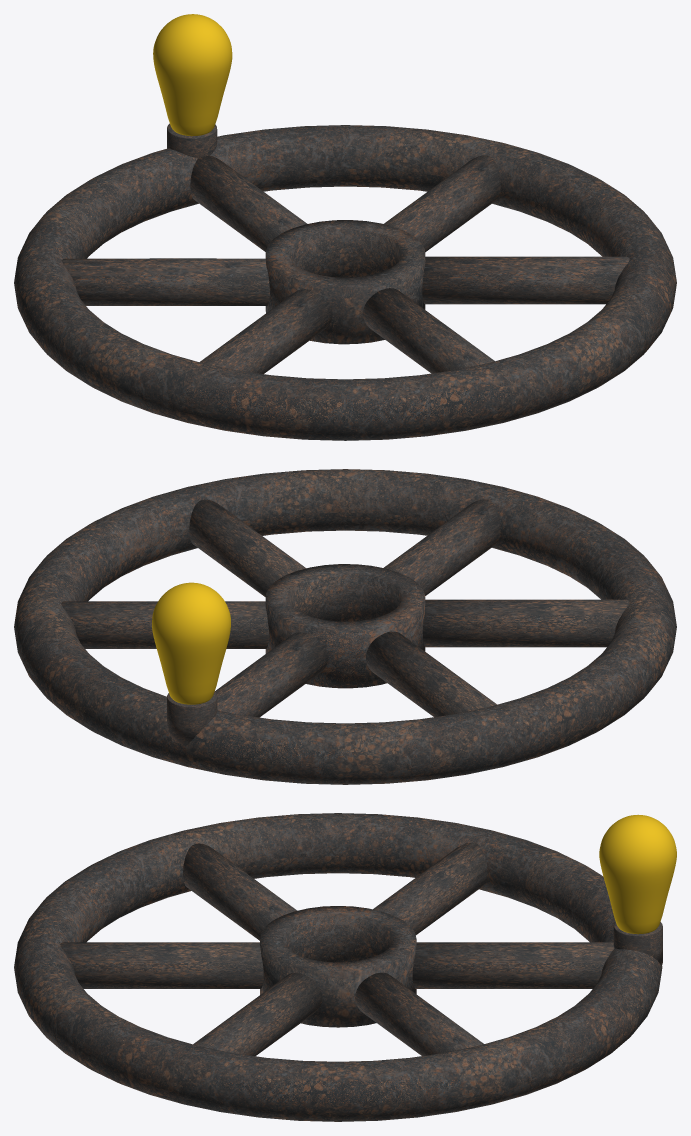
The model's file is ScrewPressWheel.fbx.
3 renders of one model, top to bottom at view 1: azimuth 30°, elevation 25°; view 2: azimuth 150°, elevation 25°; view 3: azimuth 270°, elevation 25°, orthographic. The views are drawn at different scales.
Visible parts, largest first — view 1: CrankWheel; view 2: CrankWheel; view 3: CrankWheel.
Part boxes in pixels (<box>): CrankWheel: <box>14,14,676,440</box>; CrankWheel: <box>14,469,676,784</box>; CrankWheel: <box>14,813,676,1121</box>.
Bounding box in the file's own units: 30.71 × 9.25 × 31.4.
